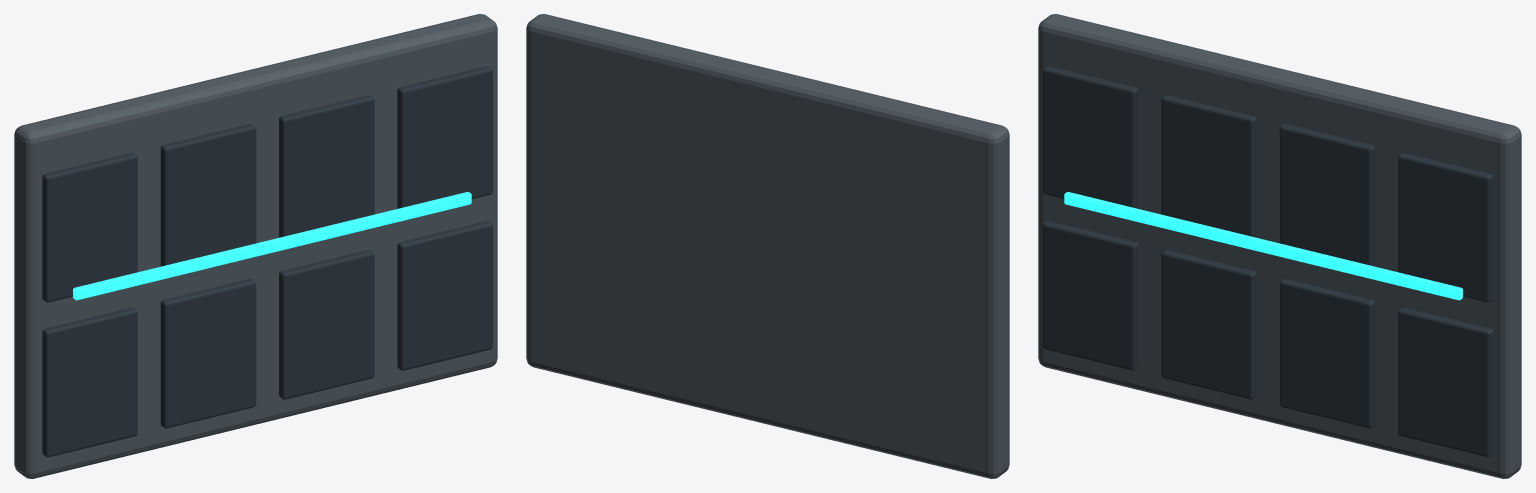
Rendered from wallrun-panel.glb.
The picture shows the model from 3 angles, left to right: view 1: azimuth 30°, elevation 25°; view 2: azimuth 150°, elevation 25°; view 3: azimuth 330°, elevation 25°; orthographic projection.
Parts seen in each view (by area): view 1: wallrun_panel_surface_01, wallrun_panel_surface_00, wallrun_panel_surface_02; view 2: wallrun_panel_surface_00; view 3: wallrun_panel_surface_01, wallrun_panel_surface_00, wallrun_panel_surface_02.
Part boxes in pixels (<box>): wallrun_panel_surface_01: <box>42,66,492,457</box>; wallrun_panel_surface_00: <box>14,14,497,478</box>; wallrun_panel_surface_02: <box>73,192,471,300</box>; wallrun_panel_surface_00: <box>526,14,1009,478</box>; wallrun_panel_surface_01: <box>1043,66,1493,457</box>; wallrun_panel_surface_00: <box>1038,14,1521,478</box>; wallrun_panel_surface_02: <box>1064,192,1462,300</box>.
Bounding box in the file's own units: 4 × 2.8 × 0.3873.
